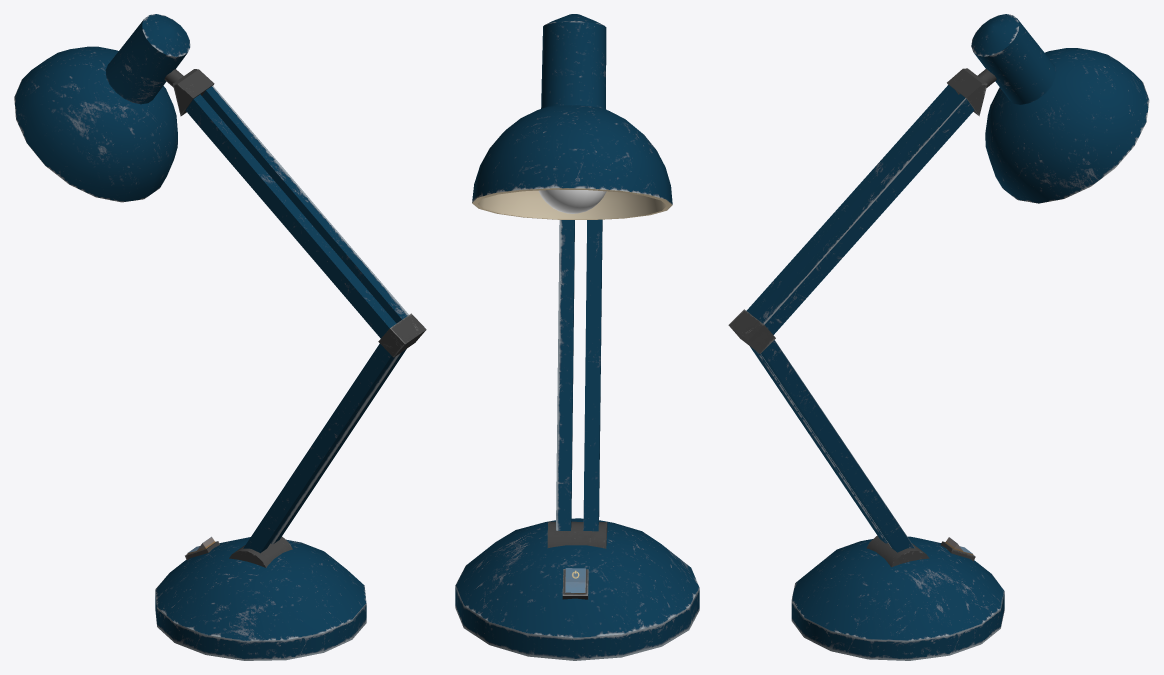
The model's file is desklamp.gltf.
3 views of the same model, side by side, from view 1: azimuth 30°, elevation 25°; view 2: azimuth 150°, elevation 25°; view 3: azimuth 270°, elevation 25° (orthographic). The views are drawn at different scales.
Parts seen in each view (by area): view 1: Cylinder.006, DeskLamp, Cube.002, Cube.001, Cube.003, Cube.004, Cylinder.004; view 2: DeskLamp, Cylinder.006, Cube.001, Cylinder.004, Cylinder.008, Cube.006; view 3: Cylinder.006, DeskLamp, Cube.002, Cube.001, Cube.003, Cube.004, Cylinder.004.
Boxes of the visible parts, left/top/right/bottom form: Cylinder.006: left=14, top=14, right=190, bottom=202; DeskLamp: left=155, top=537, right=366, bottom=660; Cube.002: left=185, top=85, right=408, bottom=338; Cube.001: left=243, top=343, right=406, bottom=553; Cube.003: left=378, top=313, right=426, bottom=357; Cube.004: left=173, top=69, right=214, bottom=116; Cylinder.004: left=229, top=536, right=292, bottom=567; DeskLamp: left=455, top=518, right=699, bottom=660; Cylinder.006: left=472, top=14, right=672, bottom=219; Cube.001: left=556, top=219, right=602, bottom=531; Cylinder.004: left=547, top=521, right=607, bottom=548; Cylinder.008: left=538, top=189, right=606, bottom=213; Cube.006: left=565, top=568, right=586, bottom=593; Cylinder.006: left=971, top=14, right=1149, bottom=203; DeskLamp: left=791, top=536, right=1004, bottom=660; Cube.002: left=746, top=85, right=974, bottom=334; Cube.001: left=750, top=340, right=914, bottom=552; Cube.003: left=728, top=309, right=775, bottom=353; Cube.004: left=947, top=68, right=987, bottom=116; Cylinder.004: left=866, top=535, right=929, bottom=567.
Bounding box in the file's own units: 0.5834 × 1.28 × 0.8561.
1 material, 1 textured.
